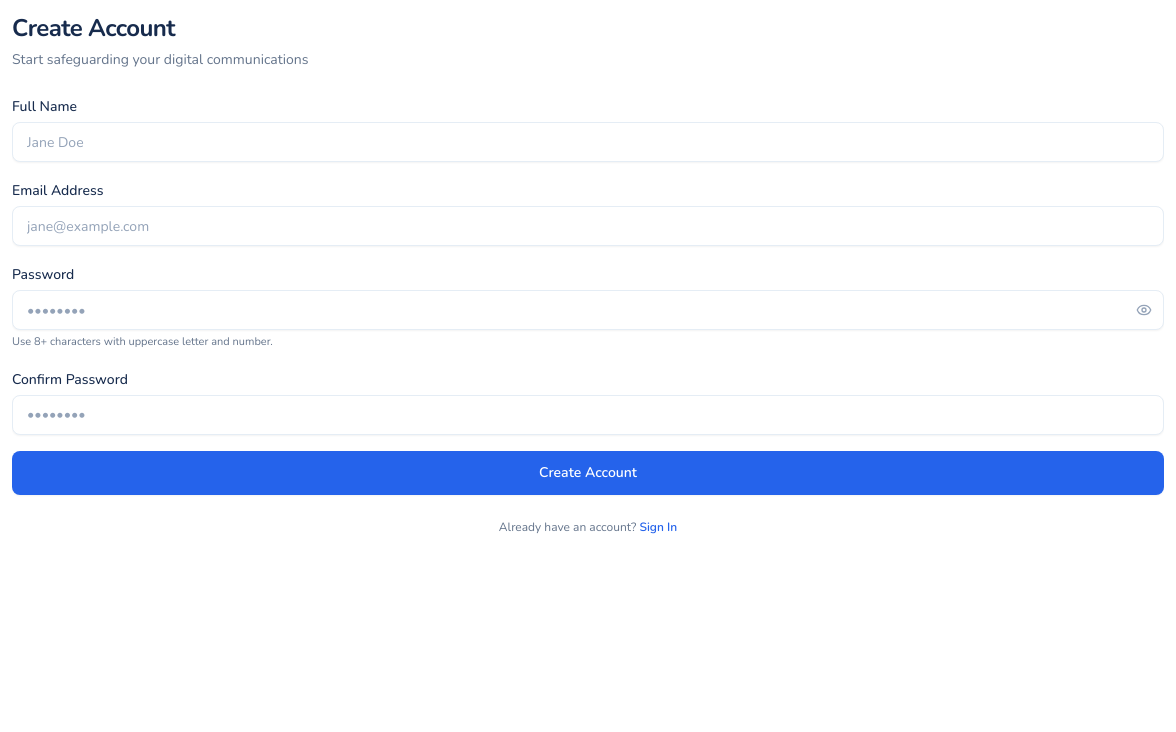
Test: RegisterPage Component › validates password requirements and mismatch
Step 1. Type "John Doe" into the field labelled "Full Name" → [588, 142], box [12, 122, 1164, 162]
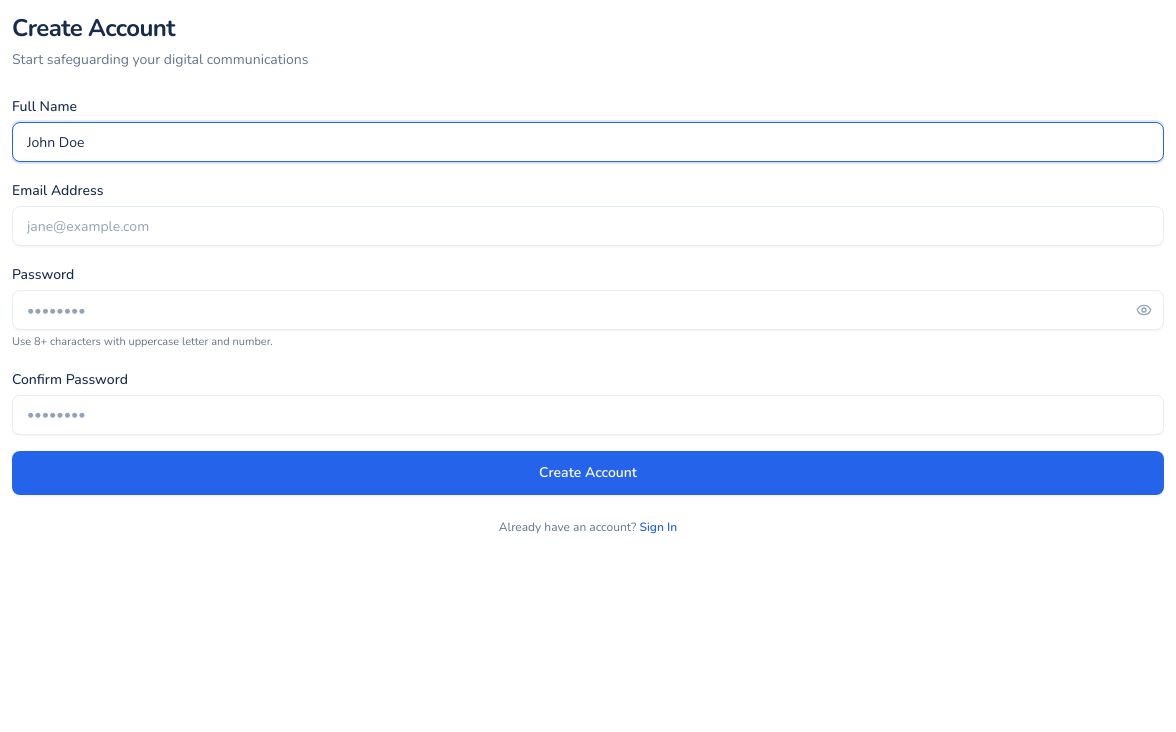
Step 2. Type "john@example.com" into the field labelled "Email Address" → [588, 226], box [12, 206, 1164, 246]
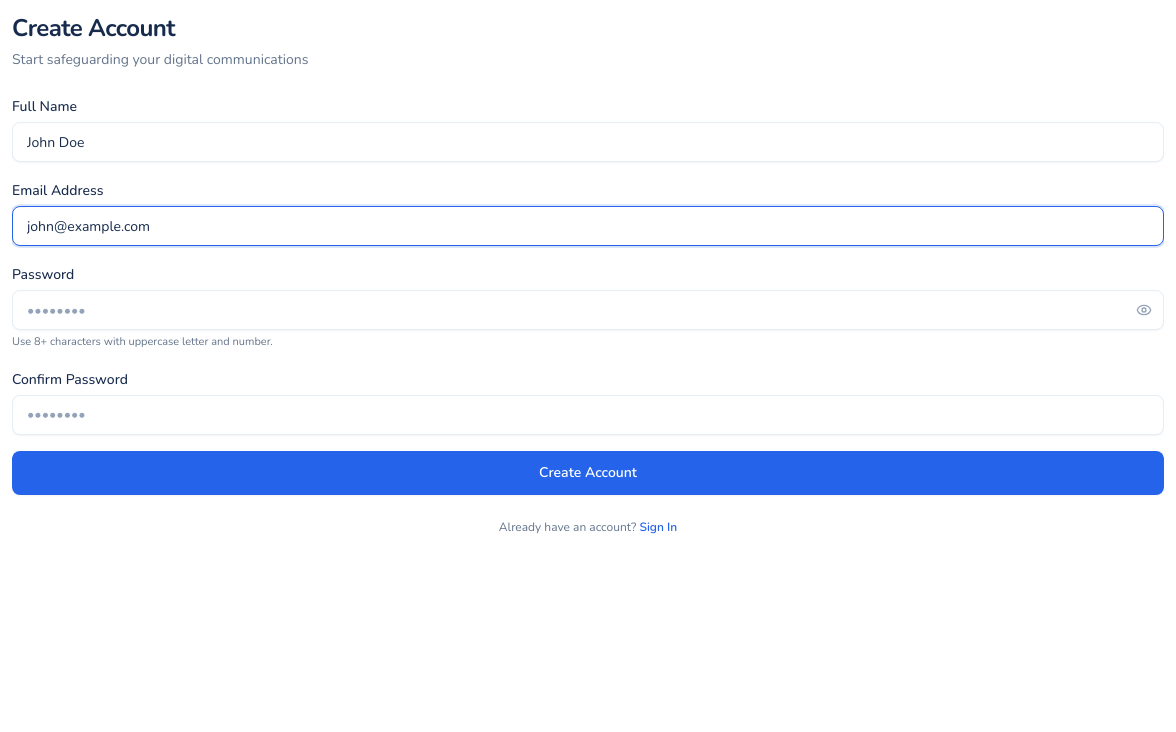
Step 3. Type "short" into the password field labelled "Password" → [588, 310], box [12, 290, 1164, 330]
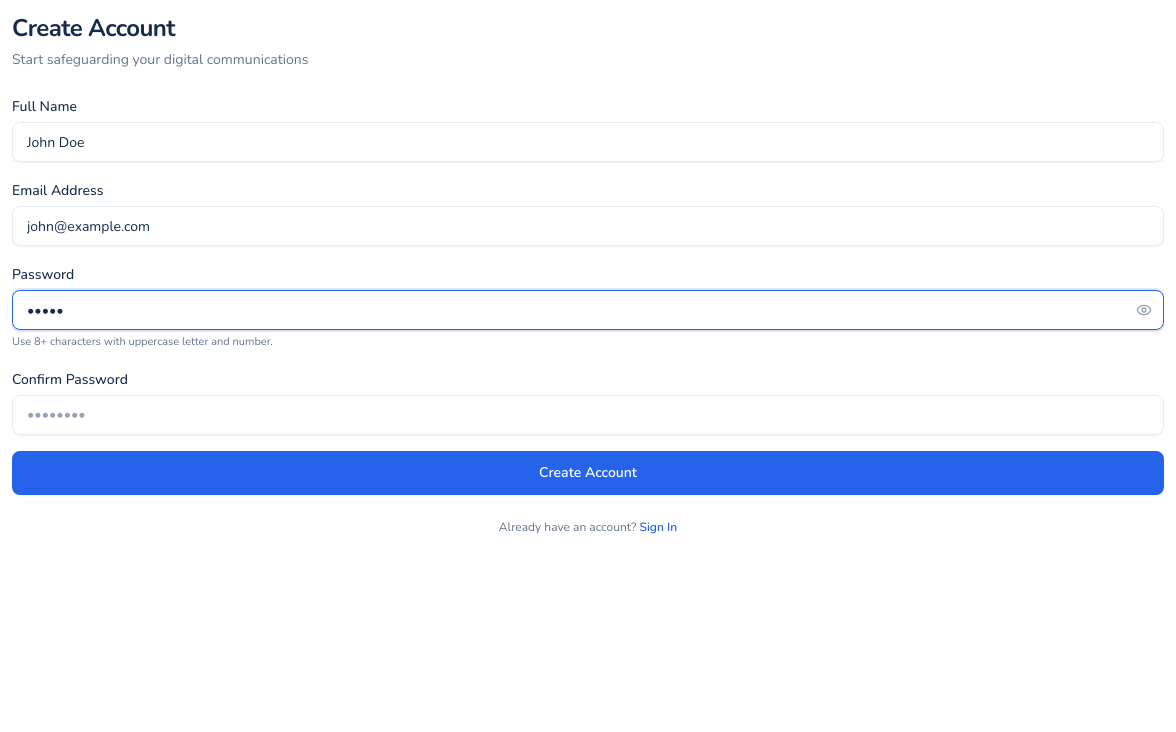
Step 4. Type "different" into the password field labelled "Confirm Password" → [588, 414], box [12, 394, 1164, 434]
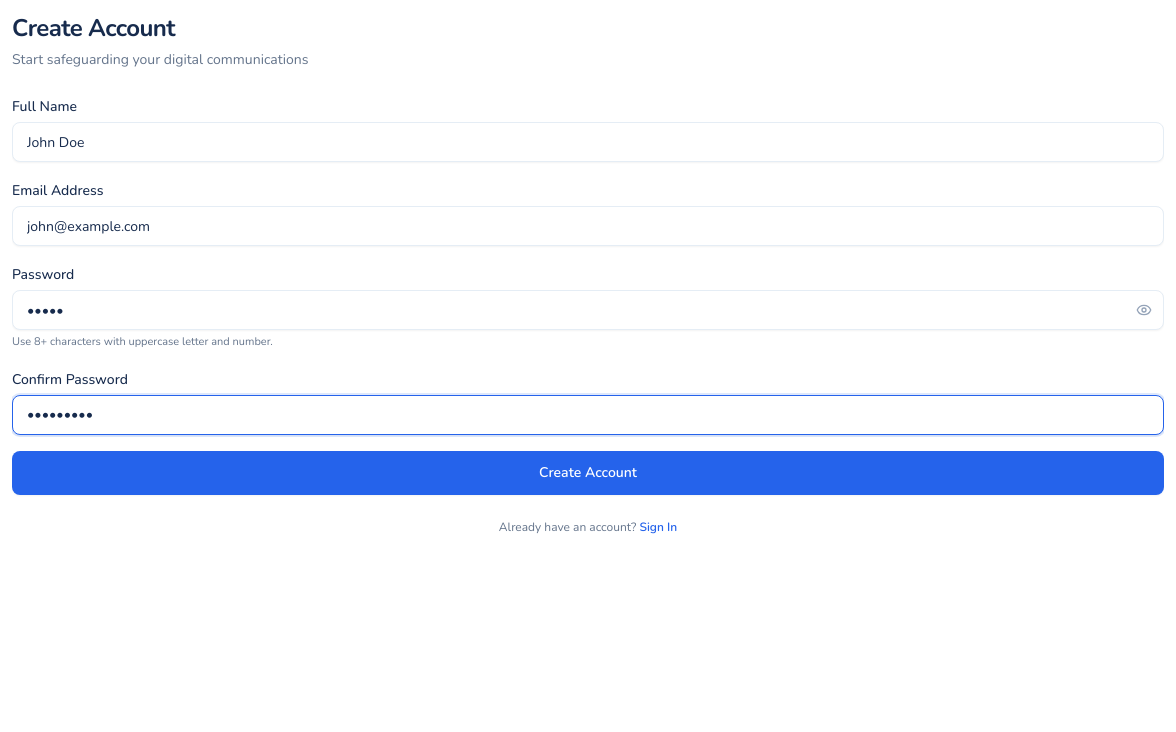
Step 5. Click the button "Create Account" → [588, 472], box [12, 450, 1164, 494]
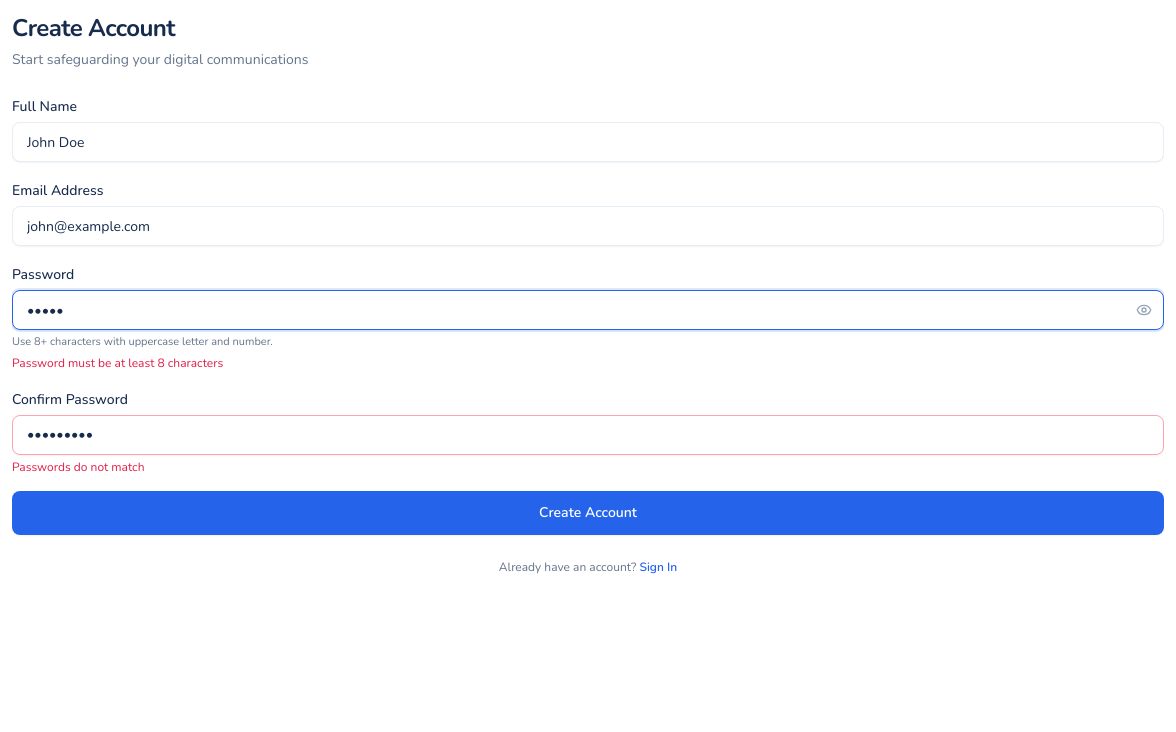
Result: the text "Password must be at least 8 characters" is shown at [12, 354, 223, 370]
Result: the text "Passwords do not match" is shown at [12, 458, 144, 474]
